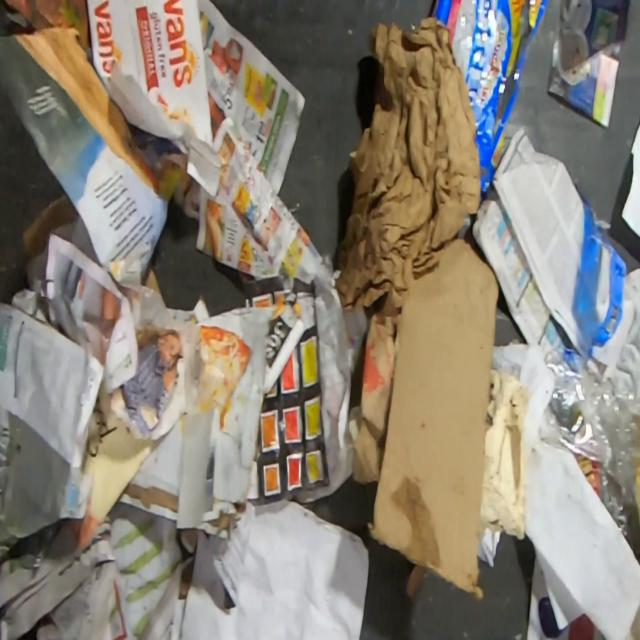cardboard: (366, 235, 501, 602), (352, 310, 404, 484), (479, 368, 531, 540), (21, 193, 81, 264), (406, 562, 430, 597)
rigid_plastic: (545, 205, 640, 578)
soft_plastic: (430, 0, 553, 205)
